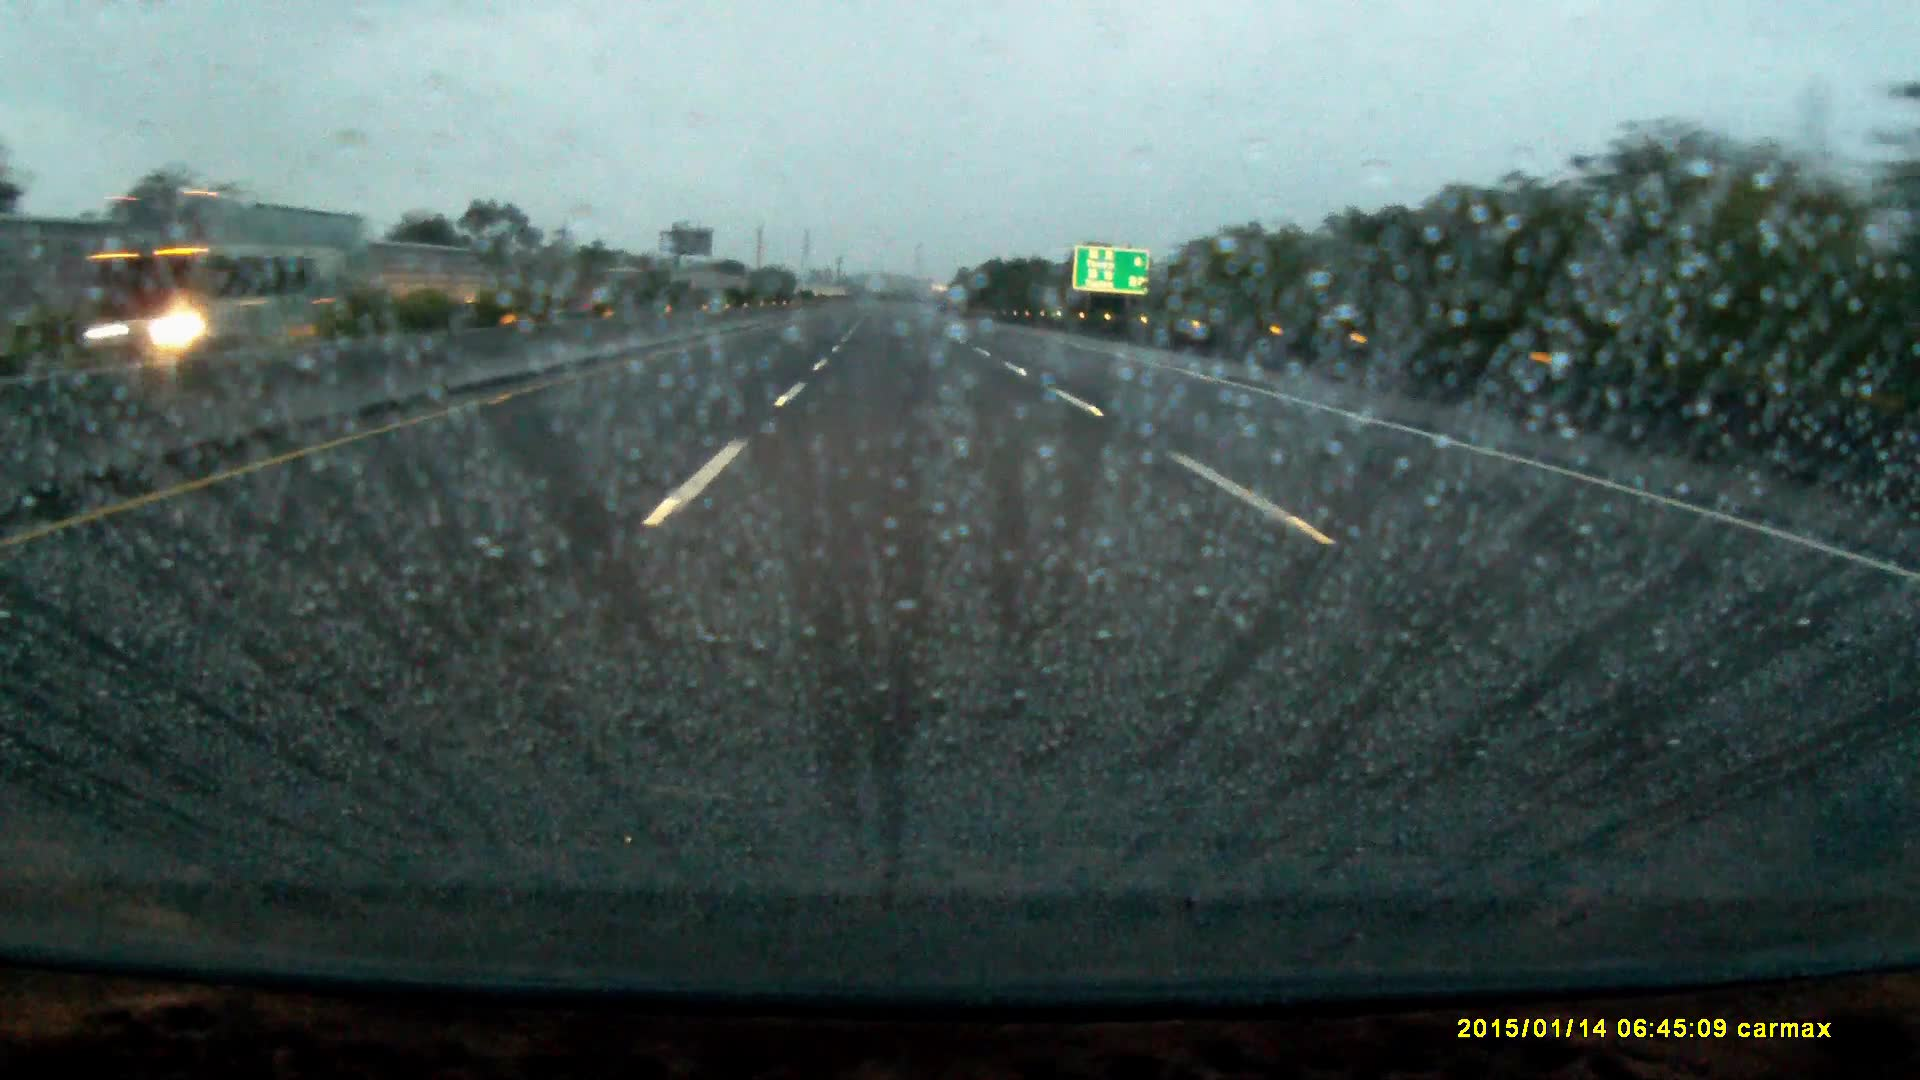vehicle: (69, 185, 327, 345), (600, 266, 667, 307)
